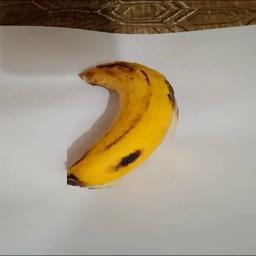Banana Semifresh: (67, 58, 181, 191)
